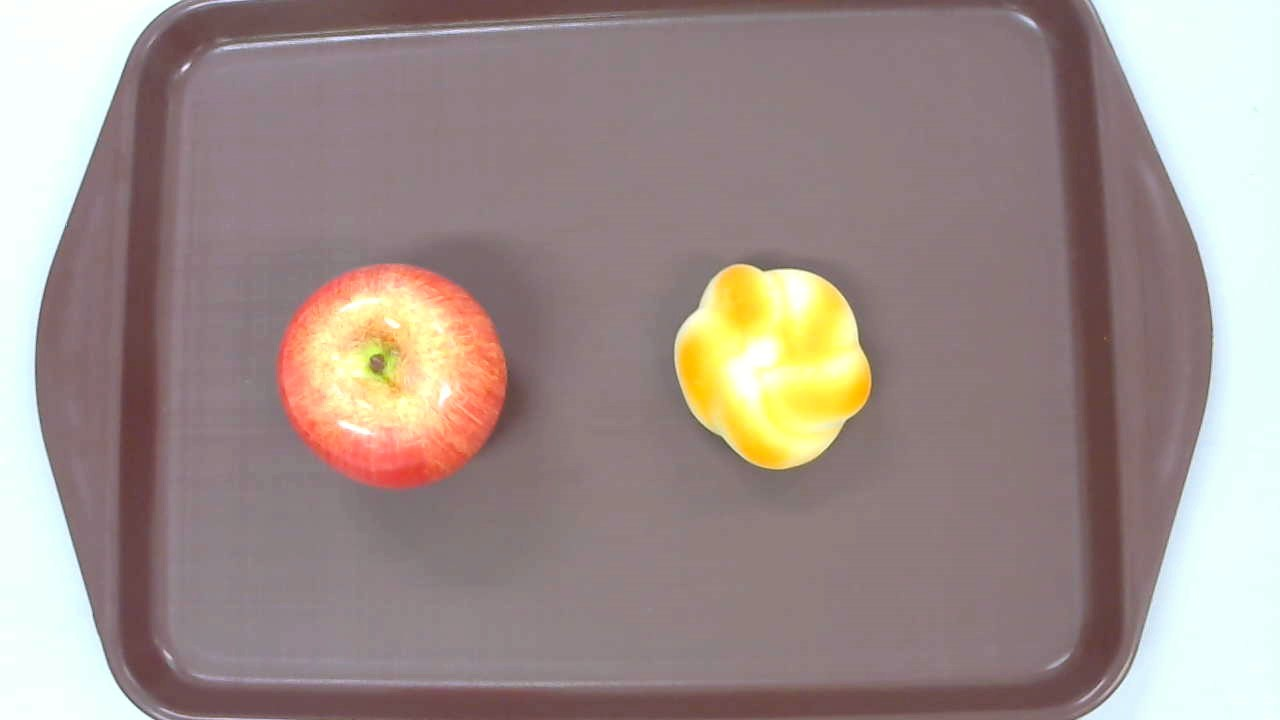red apple: (275, 262, 509, 491)
twist bread: (674, 264, 871, 470)
